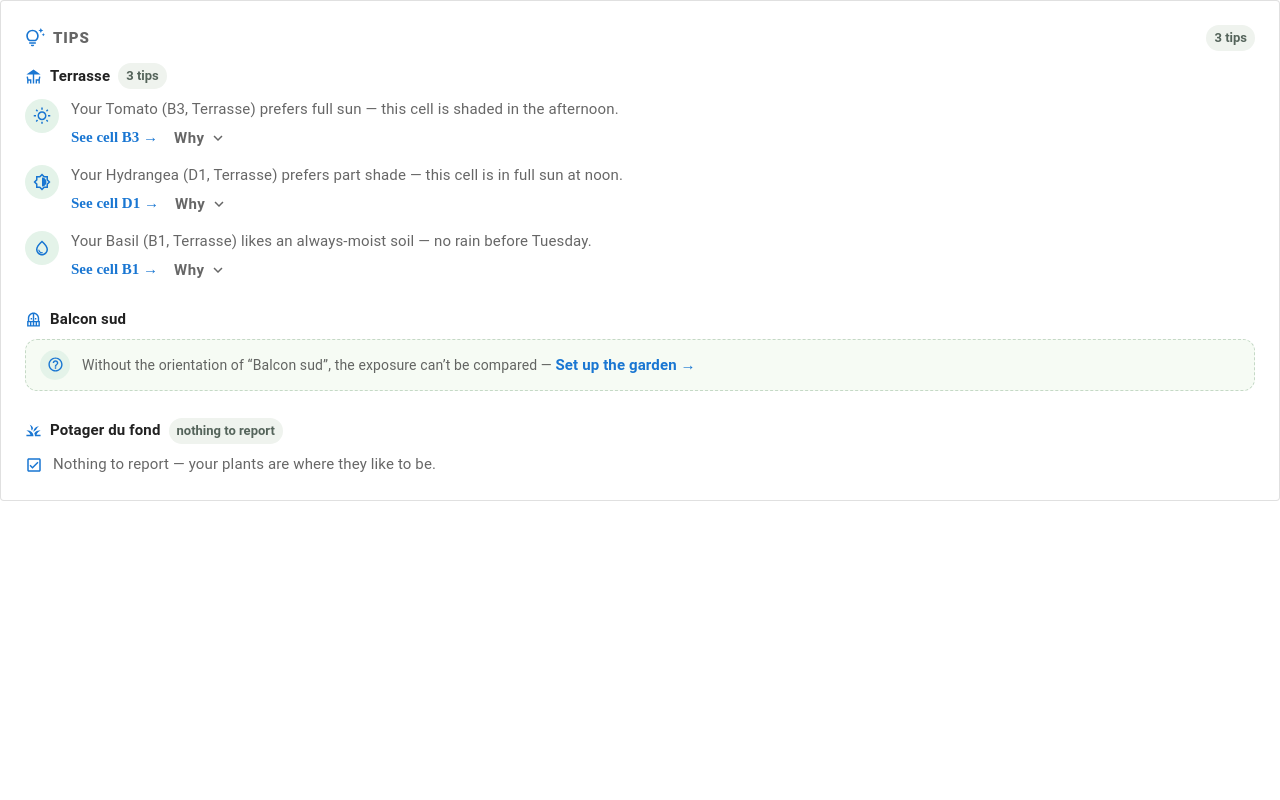
Test: TipsBlock — Large (A3Expert.dc.html l. 315-334) › the « Why » of the two other kinds names the measure
What coordinates should you click on to do the following:
click the button "Why" next to "See cell D1 →"
I would click on:
 (201, 204)
Its box is [175,191,226,217].
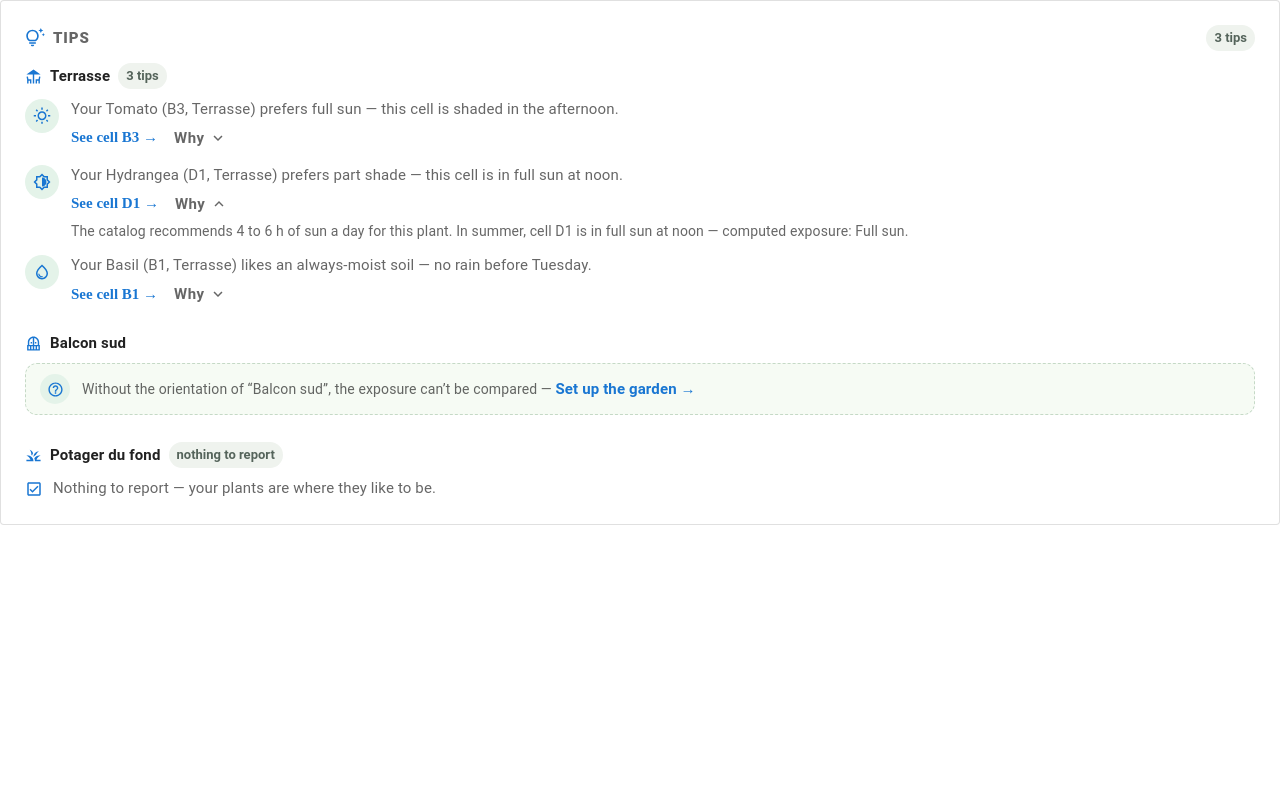
What coordinates should you click on to do the following:
click the button "Why" next to "See cell B1 →"
I would click on:
 (200, 294)
Its box is [174,281,226,307].
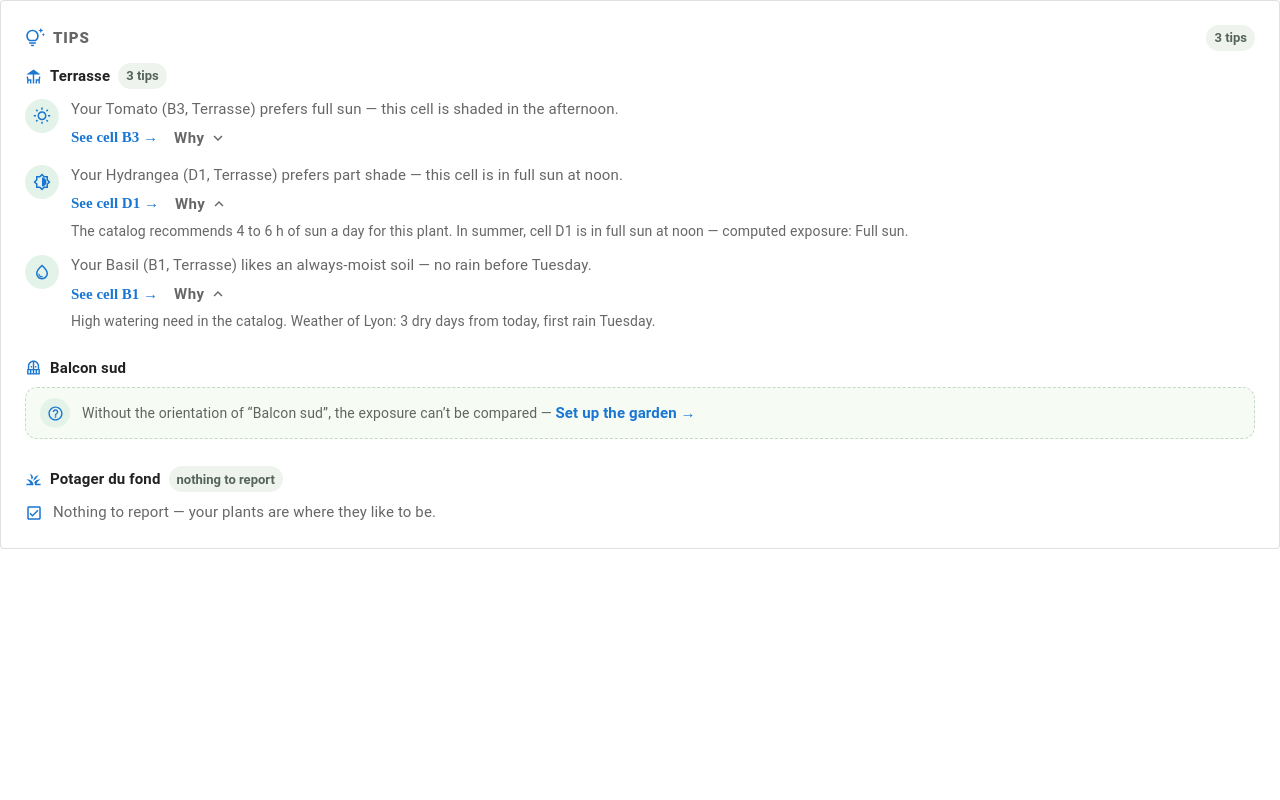
Expected: the text "The catalog recommends 4 to 6 h of sun a day for this plant. In summer, cell D1 is in full sun at noon — computed exposure: Full sun." is shown, [71,223,908,239]
Expected: the text "High watering need in the catalog. Weather of Lyon: 3 dry days from today, first rain Tuesday." is shown, [71,313,656,329]
